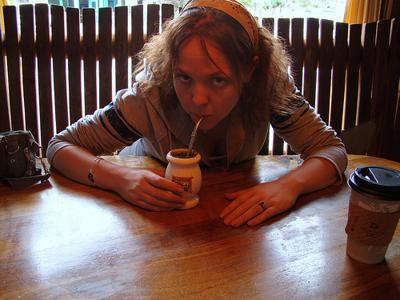person: (44, 1, 350, 230)
